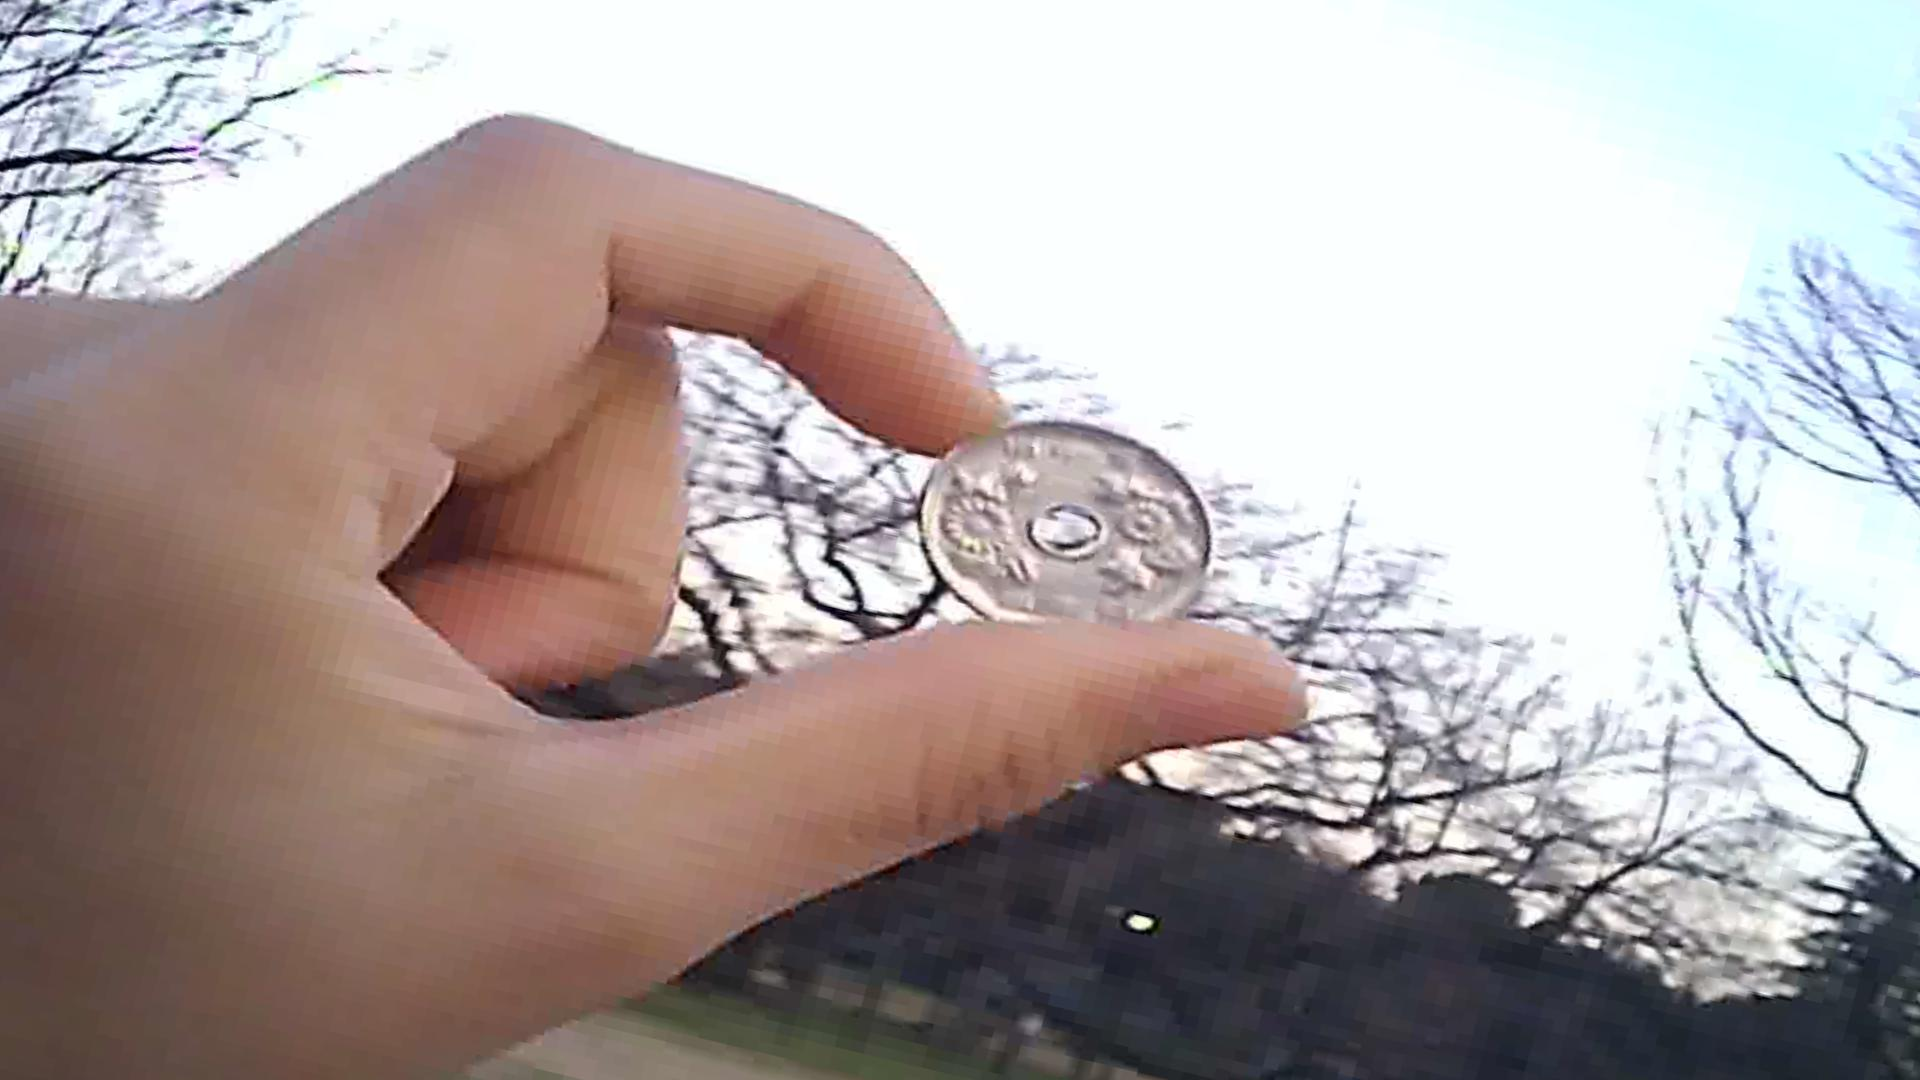50 Yen: (919, 406, 1221, 662)
